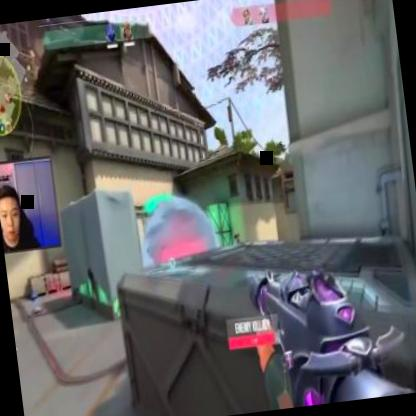enemy: (232, 228, 244, 260)
enemy_head: (234, 229, 238, 235)
